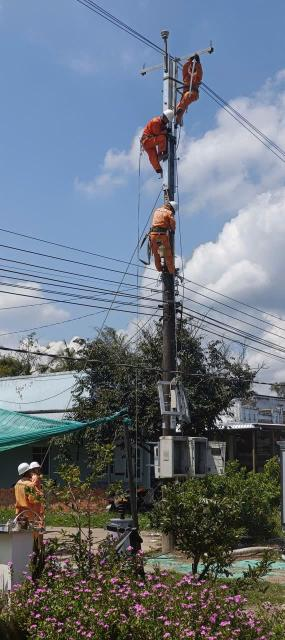gloves: (166, 123, 174, 134), (190, 55, 200, 63), (170, 227, 178, 235)
harness: (146, 224, 173, 235), (174, 85, 202, 93), (137, 132, 159, 141)
helmet: (167, 196, 180, 215), (162, 108, 175, 122), (18, 463, 31, 475), (29, 459, 40, 472)
shoes: (156, 150, 171, 162), (167, 265, 181, 275), (176, 105, 184, 114)
